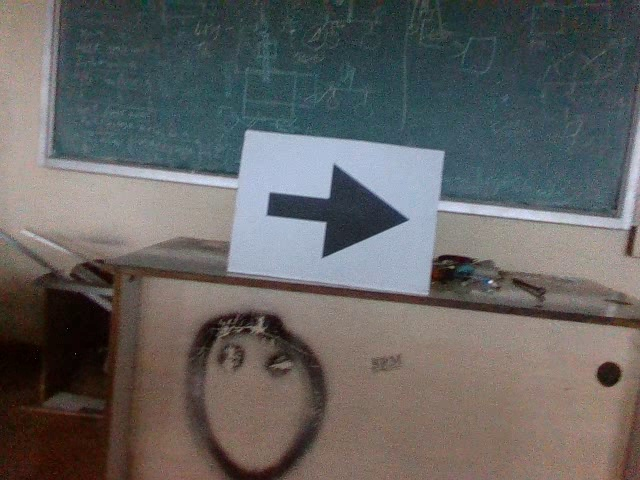Right: (256, 156, 413, 261)
